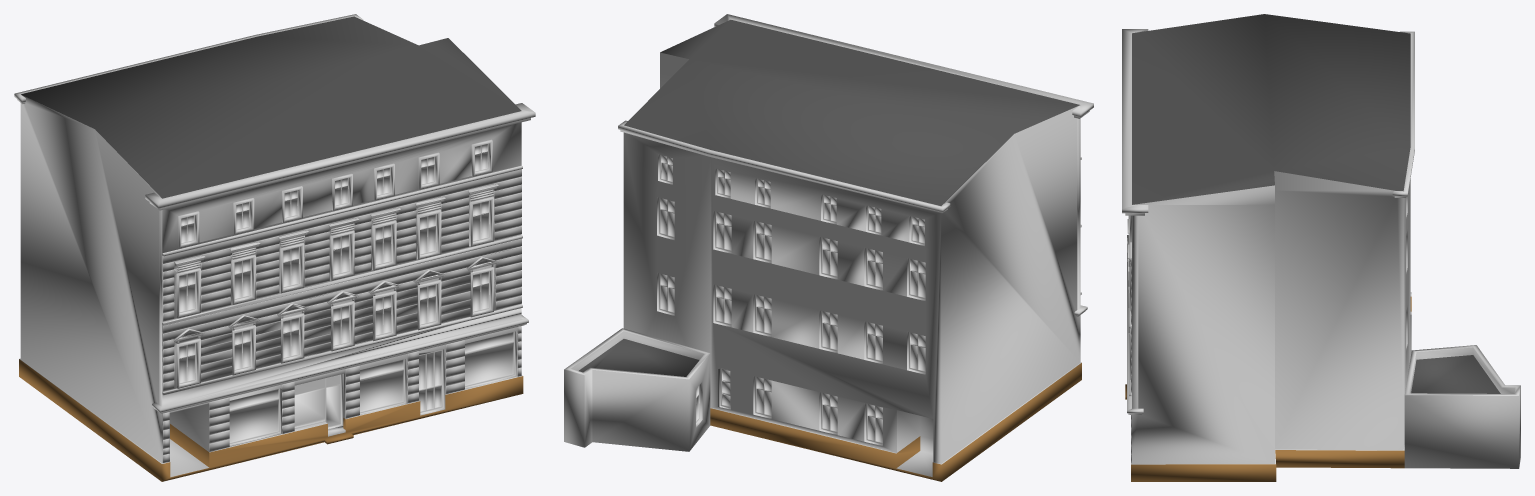
The model's file is Building_1.fbx.
3 views of the same model, side by side, from view 1: azimuth 30°, elevation 25°; view 2: azimuth 150°, elevation 25°; view 3: azimuth 270°, elevation 25° (orthographic). The views are drawn at different scales.
Parts seen in each view (by area): view 1: Empty, OKNO_R1_15, WITRYNA_02, DRZWI_R10_; view 2: Empty, OKNO_R1_43; view 3: Empty.
Part boxes in pixels (x1,y1,x2,y2): Empty: [14, 14, 535, 481]; OKNO_R1_15: [179, 143, 491, 386]; WITRYNA_02: [229, 331, 516, 446]; DRZWI_R10_: [418, 349, 445, 415]; Empty: [564, 14, 1093, 481]; OKNO_R1_43: [657, 154, 925, 446]; Empty: [1122, 14, 1520, 481].
Bounding box in the file's own units: 0.9286 × 0.7121 × 0.8693.
